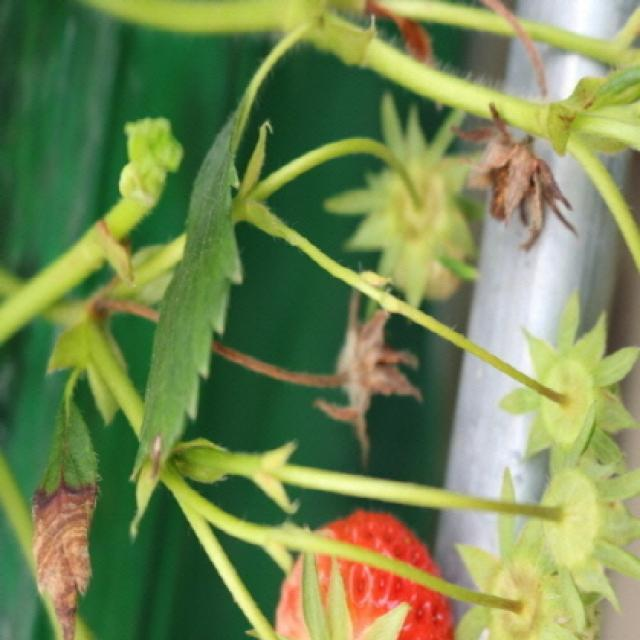Gray Mold: (302, 289, 421, 463), (450, 103, 582, 253)
